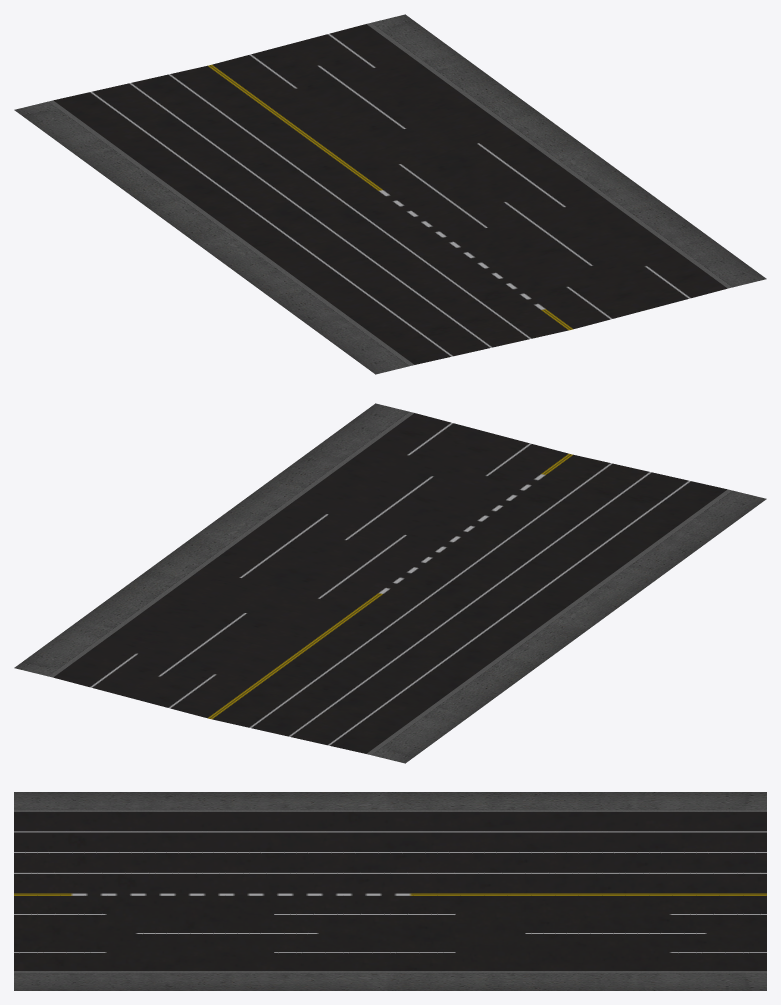
The model's file is RJs_Road 4+4 Basic Segment_UT_lod.fbx.
The picture shows the model from 3 angles, top to bottom: view 1: azimuth 30°, elevation 25°; view 2: azimuth 150°, elevation 25°; view 3: azimuth 270°, elevation 25°; orthographic projection. The views are drawn at different scales.
Parts seen in each view (by area): view 1: plane_lod; view 2: plane_lod; view 3: plane_lod.
Boxes of the visible parts, left/top/right/bottom form: plane_lod: left=14, top=14, right=766, bottom=374; plane_lod: left=14, top=403, right=766, bottom=763; plane_lod: left=14, top=792, right=766, bottom=990.
Bounding box in the file's own units: 4000 × 30.1 × 6400.
